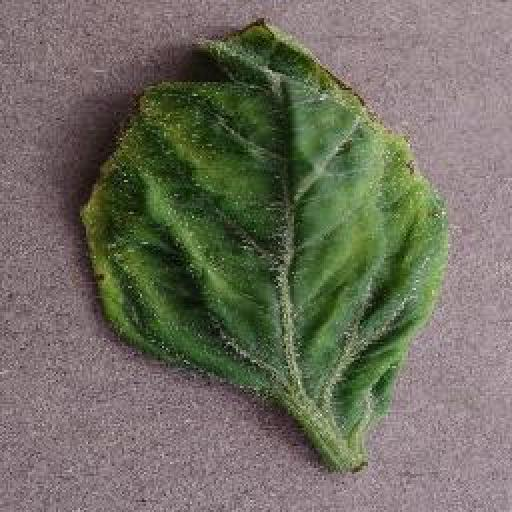Yellow Leaf Curl Virus: (79, 19, 452, 424)
